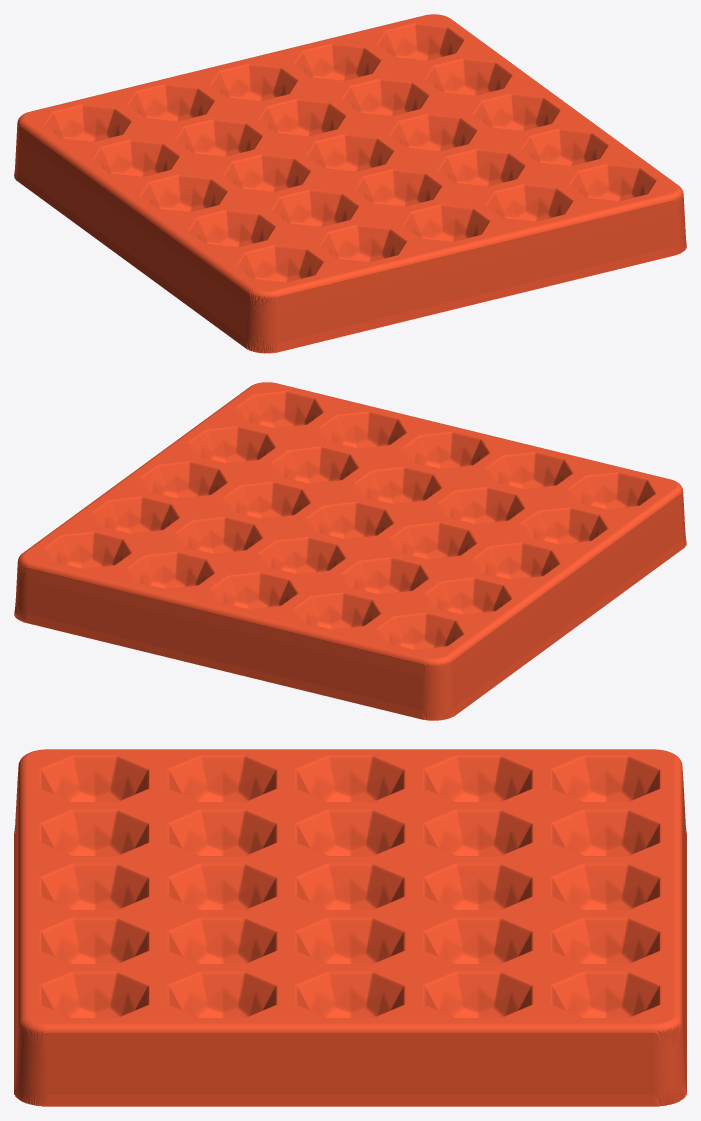
The model's file is mold.glb.
3 renders of one model, top to bottom at view 1: azimuth 30°, elevation 25°; view 2: azimuth 150°, elevation 25°; view 3: azimuth 270°, elevation 25°, orthographic. The views are drawn at different scales.
Parts seen in each view (by area): view 1: geometry_0; view 2: geometry_0; view 3: geometry_0.
Part boxes in pixels (<box>): geometry_0: <box>14,14,686,353</box>; geometry_0: <box>14,382,686,720</box>; geometry_0: <box>14,749,686,1106</box>.
Size of the model in its own units: 0.1834 by 0.0233 by 0.1834.
